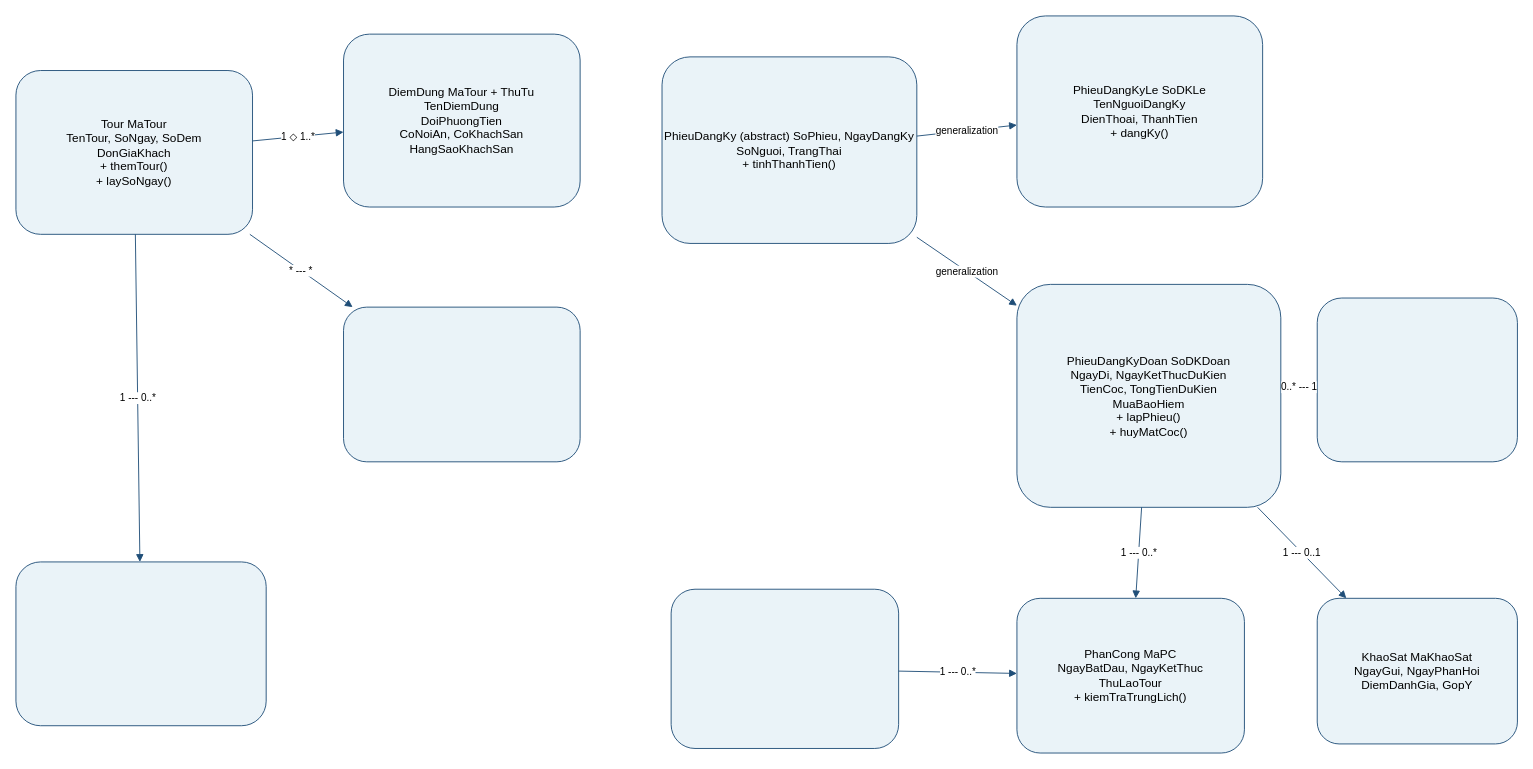
Some shapes in this 1533 by 769 pixel diagram are drawn without their labels. The centre of each missing label's shape, as x and y in pixels:
"ChuyenLe MaChuyen NgayDi, NgayVe DiaDiemDon, TrangThai + tinhNgayVe()" belongs at pixel 140 643.
"DiemThamQuan MaDiemTQ TenDiemTQ, DiaDiem NoiDung, YNghia" belongs at pixel 461 384.
"DoanKhach MaDoan TenCoQuanDaiDien DiaChi, DienThoai NguoiDaiDien" belongs at pixel 1416 379.
"HuongDanVien MaHDV HoTen, DienThoai LuongCoBan + tinhLuongThang()" belongs at pixel 784 668.
